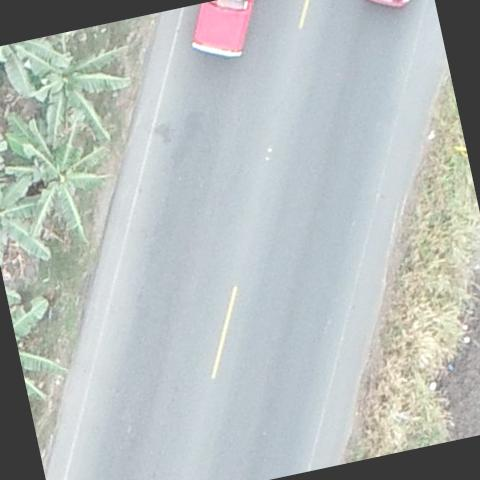Banana-plant: (2, 118, 130, 264), (21, 42, 144, 155), (0, 148, 71, 283)
